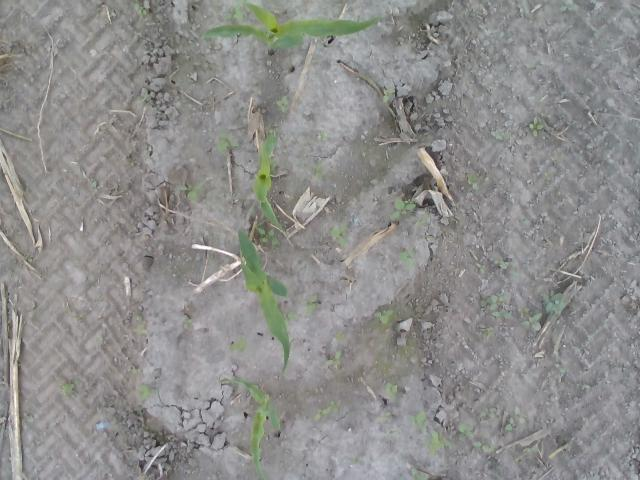Maize: (200, 0, 382, 50), (238, 228, 292, 376), (223, 374, 282, 480), (251, 132, 287, 234)
Weeds: (481, 293, 512, 318), (176, 180, 208, 203), (426, 430, 452, 456), (253, 224, 280, 249), (328, 222, 352, 250), (392, 196, 416, 222), (518, 306, 542, 332), (504, 406, 526, 432), (543, 290, 566, 314), (216, 132, 240, 154), (398, 246, 418, 272), (222, 0, 245, 22), (313, 401, 337, 421), (406, 412, 429, 432), (226, 334, 248, 353), (304, 293, 320, 318), (320, 351, 342, 369), (456, 421, 476, 440), (374, 309, 394, 327), (63, 378, 79, 400), (138, 383, 156, 401), (382, 82, 396, 105), (464, 174, 481, 192), (131, 0, 150, 16), (528, 118, 544, 136), (383, 381, 398, 399), (274, 95, 289, 112), (471, 442, 496, 452), (410, 467, 429, 480), (490, 130, 512, 141), (377, 411, 392, 425), (560, 0, 576, 13), (494, 256, 508, 270), (132, 324, 148, 336), (416, 214, 432, 226), (480, 407, 498, 417), (335, 331, 348, 344), (282, 311, 298, 321), (304, 388, 320, 398), (312, 158, 320, 176), (482, 327, 495, 337), (524, 447, 542, 454), (182, 318, 192, 330), (128, 368, 142, 376), (318, 132, 329, 141), (87, 180, 97, 189), (510, 272, 520, 280), (137, 96, 150, 102), (352, 456, 359, 464), (25, 255, 33, 262), (267, 128, 274, 133)
